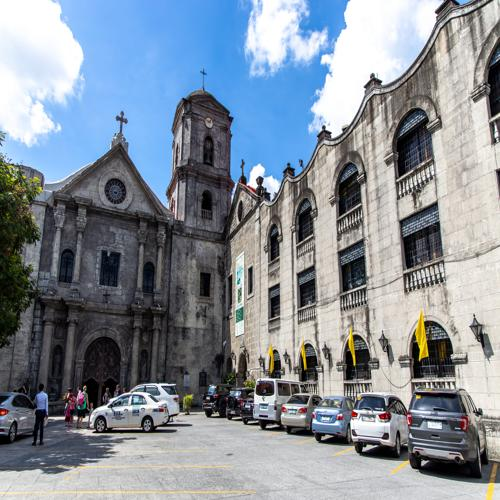San Agustin Church: (31, 56, 242, 424)
